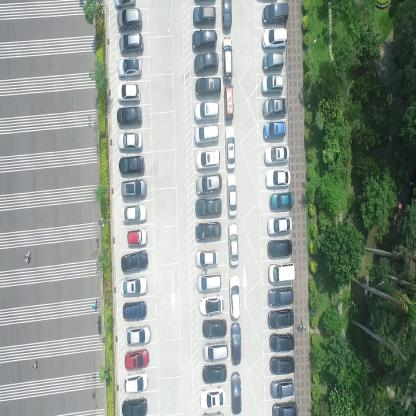car: (120, 250, 149, 276), (200, 386, 228, 412), (119, 178, 146, 202), (119, 274, 147, 297), (229, 274, 242, 322), (196, 173, 223, 196), (193, 101, 220, 123), (268, 261, 295, 283), (262, 3, 290, 24), (118, 31, 143, 54), (117, 8, 143, 30), (117, 131, 143, 153), (193, 124, 219, 146), (124, 326, 150, 348), (198, 294, 224, 316), (202, 341, 228, 363), (268, 308, 294, 330), (124, 348, 150, 370), (194, 52, 219, 74), (121, 300, 146, 322), (196, 272, 221, 294), (120, 204, 146, 225), (267, 215, 293, 236), (268, 286, 294, 307), (196, 222, 222, 243), (117, 156, 144, 176), (228, 223, 240, 268), (195, 198, 223, 217), (202, 317, 226, 339), (203, 363, 227, 385), (124, 372, 148, 394), (270, 376, 294, 398), (263, 27, 288, 48), (196, 149, 221, 170), (196, 77, 222, 97), (192, 30, 218, 50), (116, 106, 142, 126), (267, 238, 293, 258), (269, 332, 295, 352), (222, 33, 233, 80), (265, 169, 292, 188), (264, 146, 291, 165), (224, 124, 235, 170), (195, 248, 219, 269), (117, 57, 142, 77), (116, 82, 141, 102), (231, 370, 242, 415), (121, 396, 147, 415), (227, 174, 238, 218), (270, 354, 295, 373), (193, 5, 216, 25), (263, 97, 287, 116), (269, 192, 294, 210), (231, 322, 241, 367), (126, 226, 147, 247), (264, 120, 286, 140), (271, 400, 298, 415), (263, 52, 285, 70), (262, 75, 284, 93), (224, 84, 234, 122), (221, 0, 233, 30), (113, 0, 136, 9)
